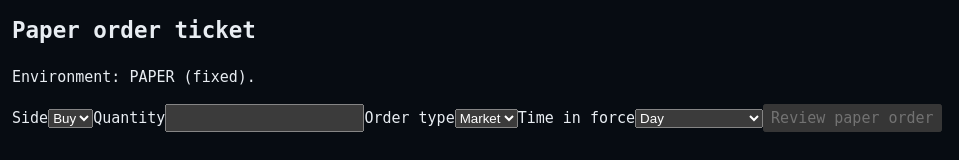
Scenario: PAPER-ORDER-TICKET-UI-001 independent acceptance › shows an enabled review CTA only for the trusted operator's exact active PAPER scope
The width and height of the screenshot is (959, 160).
In the field labelled "Quantity": [265, 118] box x1=165 y1=104 x2=364 y2=132, type "2"
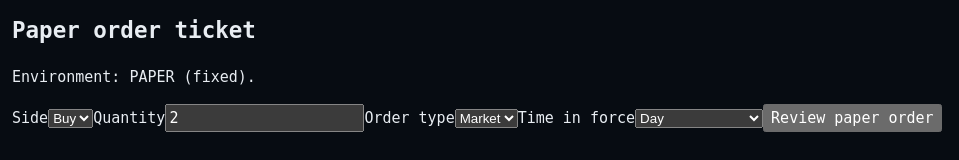
Expected: the text "Environment: PAPER (fixed)." is shown, x1=12 y1=68 x2=256 y2=86
Expected: the button "Review paper order" is enabled, x1=763 y1=104 x2=942 y2=132
